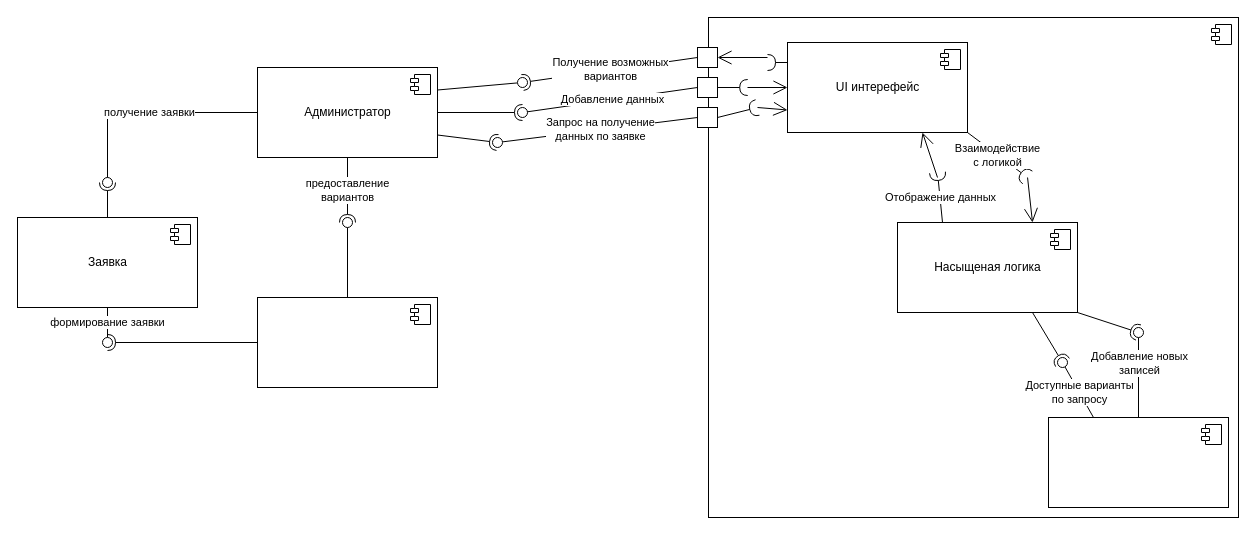
The diagram is 1256 pixels wide and 535 high, and some of its shapes have lost their labels. The box of each missing label's shape, as (x1, y1, x2, y2) in pixels:
База данных: (1048, 416, 1228, 508)
Клиент: (256, 296, 438, 388)
